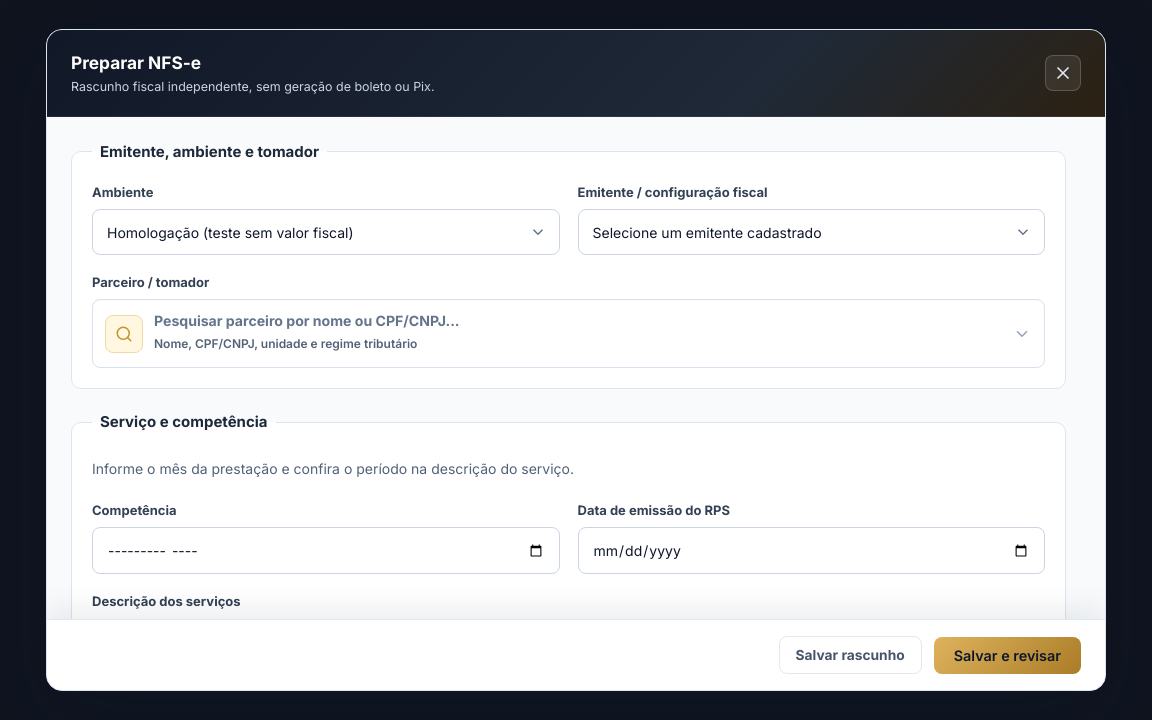
Preparação NFS-e independente › produção pode ser preparada mas não habilita transmissão
Select "Produção (somente preparação)" in the dropdown labelled "Ambiente" at coordinates (326, 232), box left=92, top=209, right=560, bottom=255
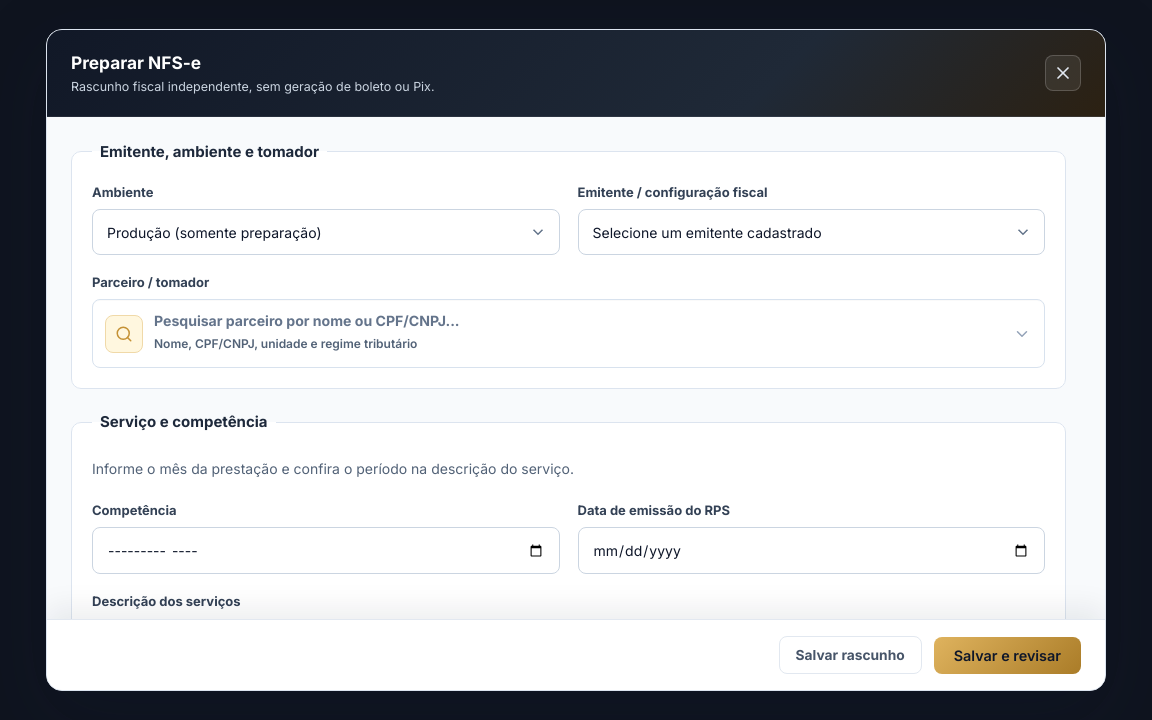
Select "Emitente P · 123" in the dropdown labelled "Emitente / configuração fiscal" at coordinates (811, 232), box left=578, top=209, right=1045, bottom=255
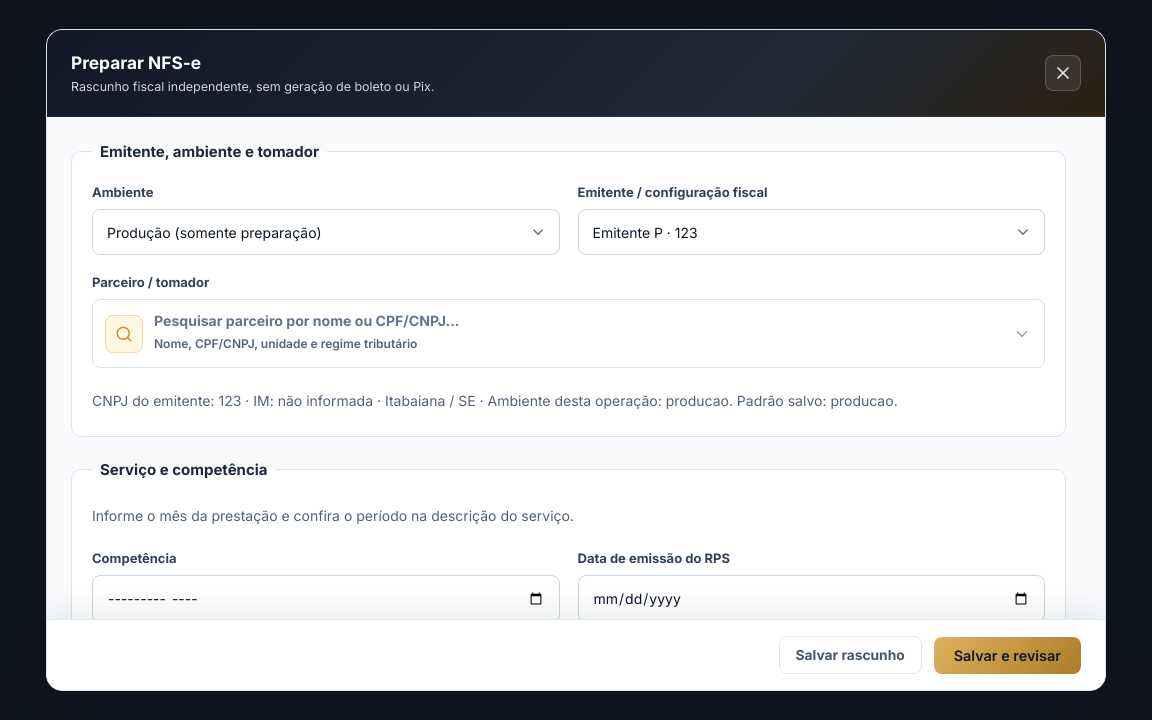
Type "Parceiro A" into the dropdown named "Parceiro / tomador" at coordinates (578, 320), box left=154, top=309, right=1001, bottom=331
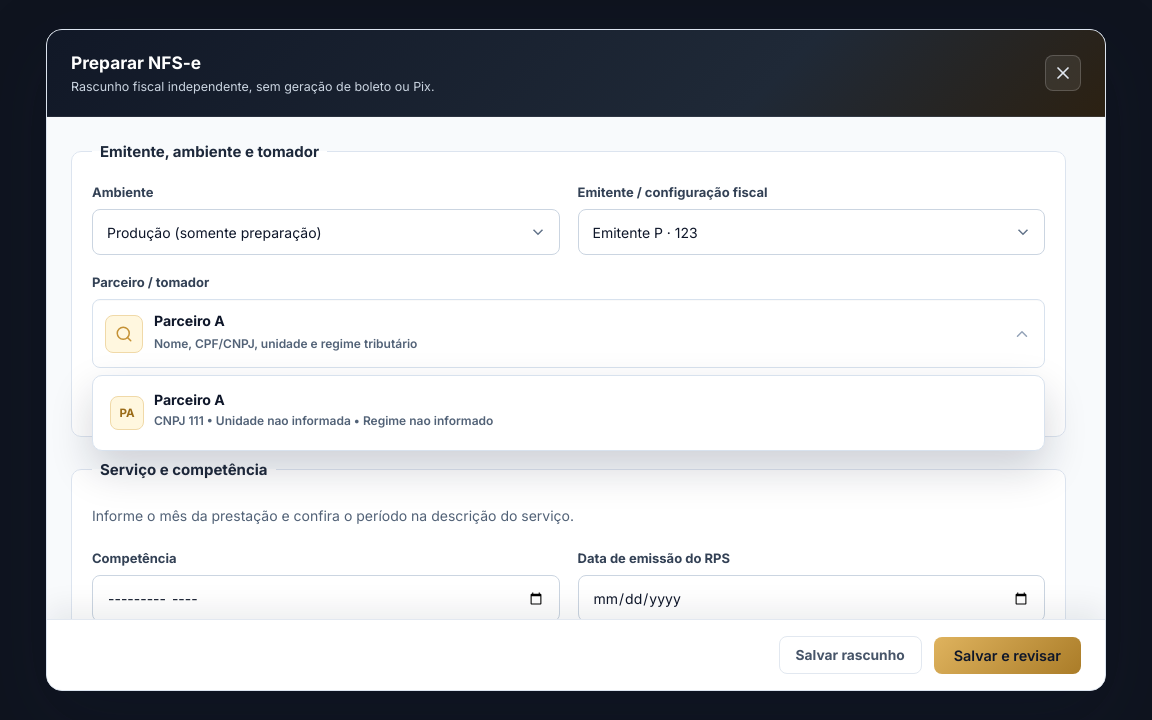
Click the option "Parceiro A" at coordinates (127, 413), box left=99, top=382, right=1038, bottom=444
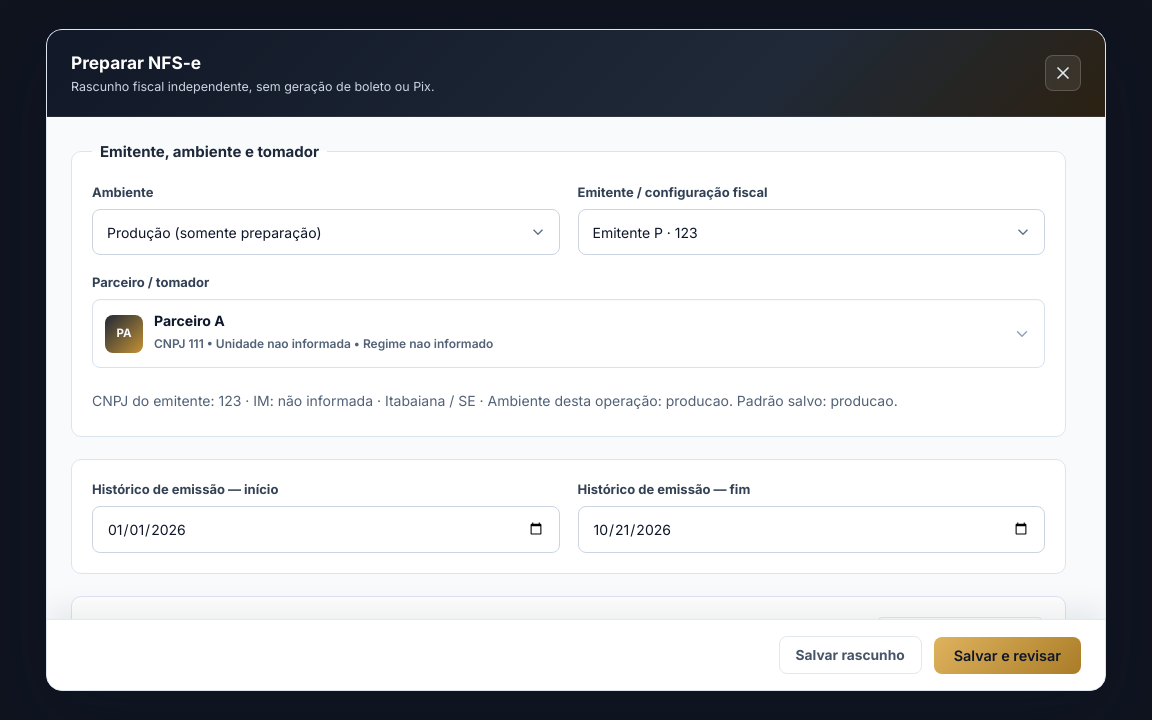
Click the button "Salvar e revisar" at coordinates (1007, 655), box left=934, top=637, right=1081, bottom=674
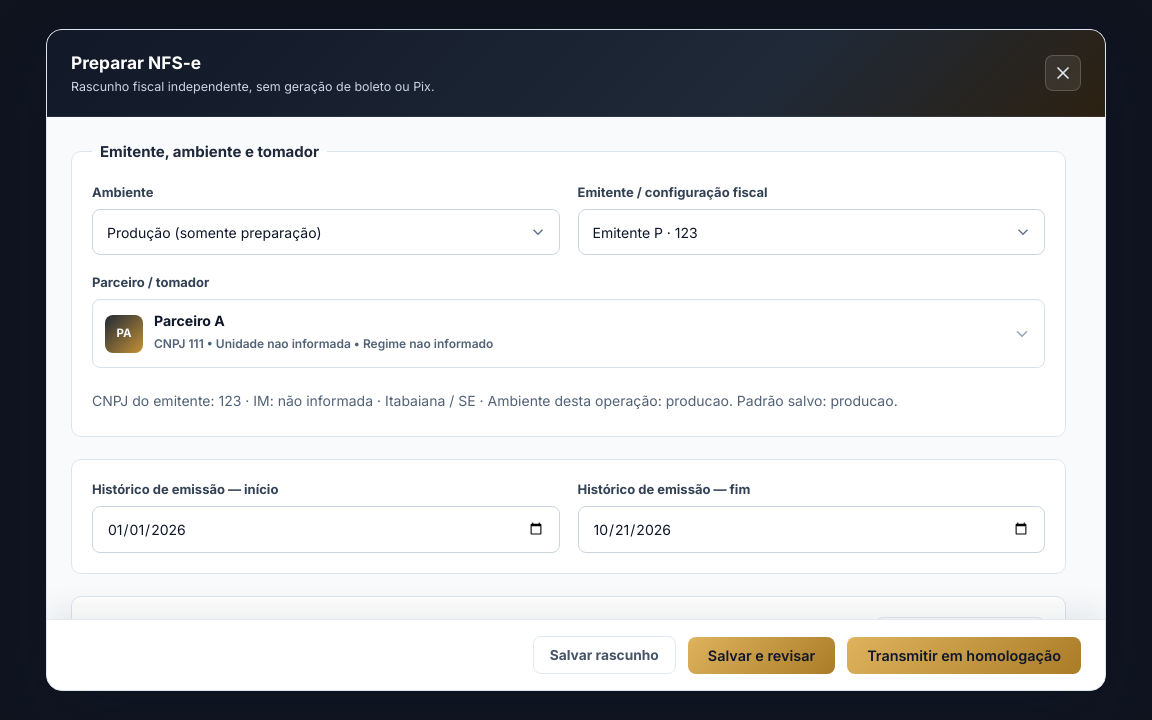
Expected: the button "Transmitir em homologação" is disabled, left=847, top=637, right=1081, bottom=674
